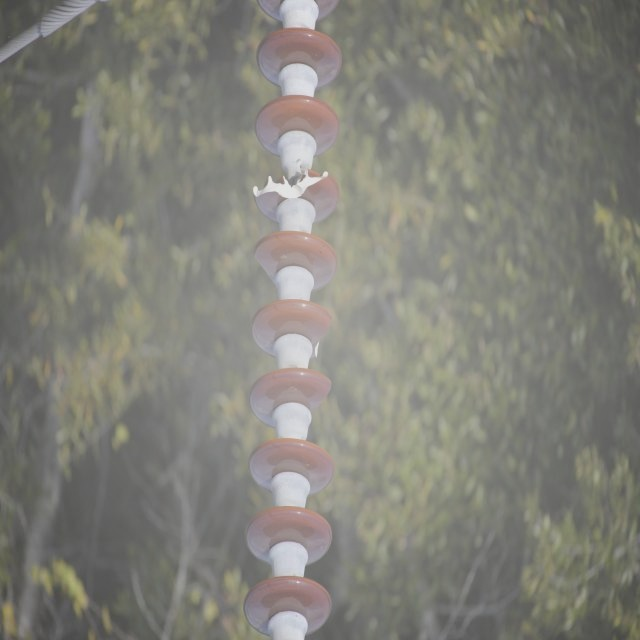broken: (253, 166, 331, 205), (314, 311, 335, 365), (308, 377, 333, 414)
insulator: (242, 0, 343, 634)
